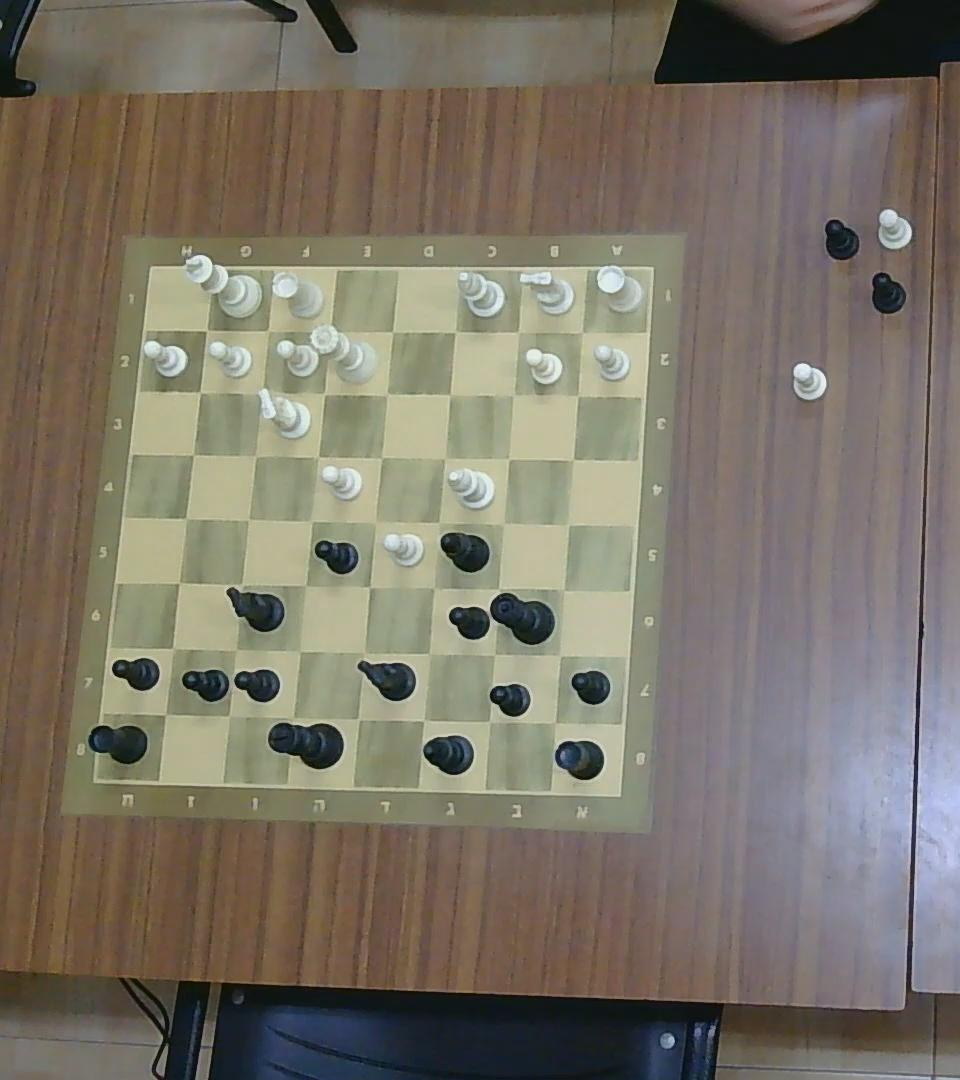xcorner: (216, 702, 241, 728), (477, 709, 503, 734), (154, 701, 178, 725), (347, 706, 370, 731), (288, 639, 311, 663), (412, 708, 435, 732), (280, 707, 304, 730), (162, 636, 185, 659), (363, 509, 385, 533), (542, 711, 566, 733), (175, 507, 197, 529), (422, 576, 444, 598), (230, 574, 252, 596), (318, 321, 340, 343), (359, 576, 380, 598), (353, 642, 375, 663), (567, 384, 588, 405), (169, 571, 189, 593), (182, 443, 202, 464), (493, 512, 513, 533), (197, 318, 217, 339), (483, 644, 504, 664), (428, 512, 448, 533), (370, 447, 390, 467), (239, 509, 259, 529), (246, 445, 266, 465), (295, 575, 315, 595), (225, 639, 245, 659), (420, 644, 440, 664), (301, 509, 320, 530), (445, 320, 464, 341), (376, 384, 395, 405), (440, 384, 459, 405), (504, 384, 523, 405), (559, 514, 578, 534), (563, 449, 583, 468), (258, 320, 277, 340), (382, 322, 401, 342), (253, 381, 272, 401), (488, 579, 508, 598), (499, 449, 518, 468), (508, 321, 527, 340), (550, 645, 569, 664), (573, 322, 591, 342), (308, 445, 326, 465), (435, 448, 453, 466), (315, 384, 333, 402), (190, 382, 208, 400), (555, 581, 573, 599)
